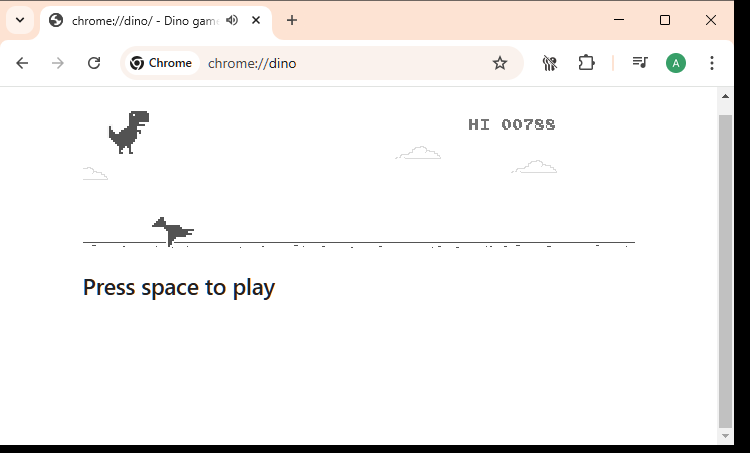bird: (151, 216, 196, 248)
dino: (108, 110, 150, 155)
